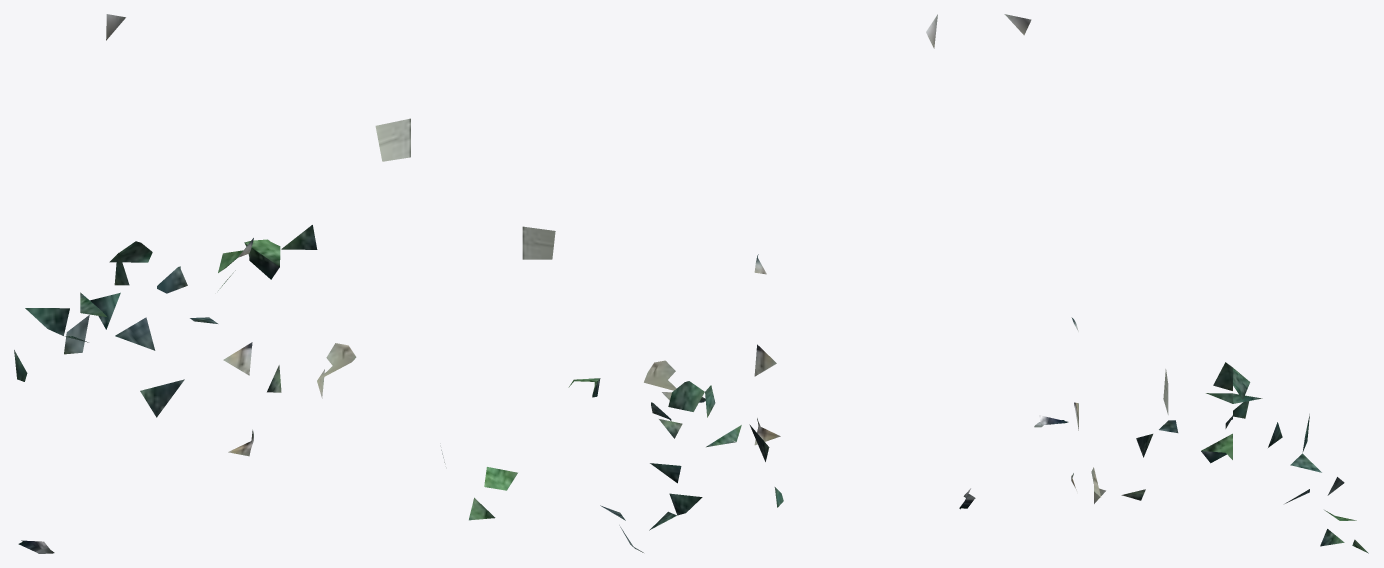
The picture shows the model from 3 angles, left to right: view 1: azimuth 30°, elevation 25°; view 2: azimuth 150°, elevation 25°; view 3: azimuth 270°, elevation 25°; orthographic projection. The views are drawn at different scales.
Visible parts, largest first — view 1: 30436272704361704604_1; view 2: 30436272704361704604_1; view 3: 30436272704361704604_1.
Part boxes in pixels (x1,y1,x2,y2): 30436272704361704604_1: (14, 14, 410, 553); 30436272704361704604_1: (441, 14, 975, 552); 30436272704361704604_1: (1004, 14, 1368, 553).
Bounding box in the file's own units: 26.54 × 29.74 × 22.68.
1 material, 1 textured.
